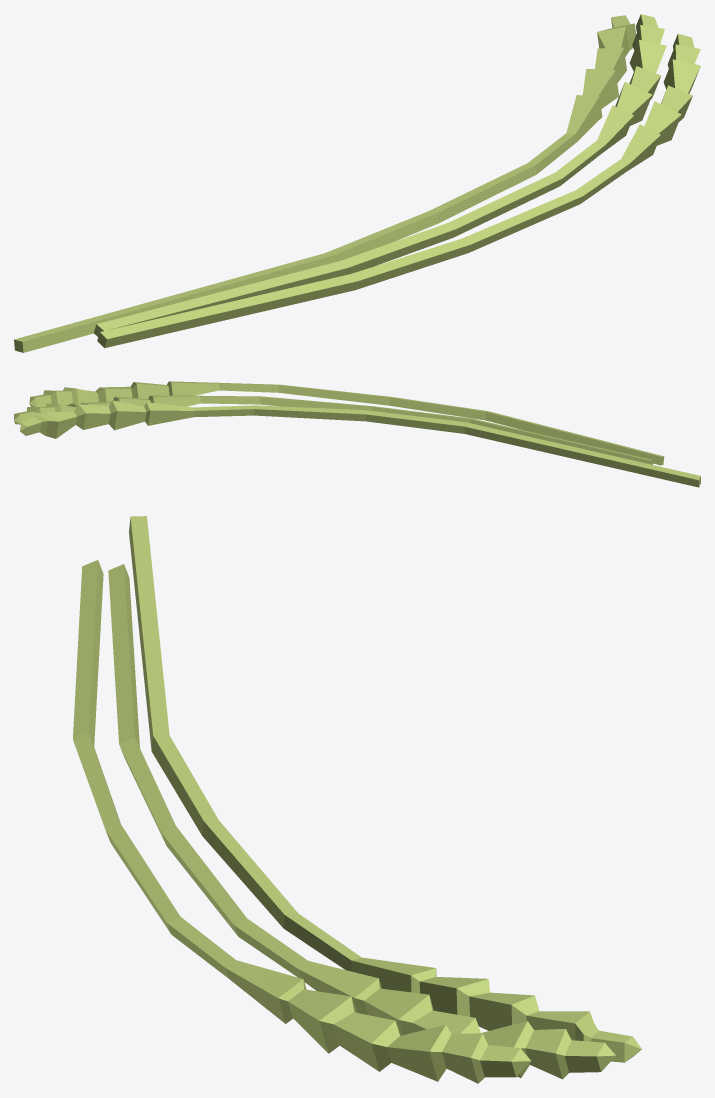
The model's file is rice_crop.glb.
3 views of the same model, one above another, from view 1: azimuth 30°, elevation 25°; view 2: azimuth 150°, elevation 25°; view 3: azimuth 270°, elevation 25° (orthographic). The views are drawn at different scales.
Visible parts, largest first — view 1: Rice_Crop; view 2: Rice_Crop; view 3: Rice_Crop.
Boxes of the visible parts, bbox=[...] form: Rice_Crop: bbox=[14, 14, 700, 352]; Rice_Crop: bbox=[14, 381, 700, 487]; Rice_Crop: bbox=[73, 516, 641, 1083].
Size of the model in its own units: 0.9063 by 0.0457 by 0.3868.
